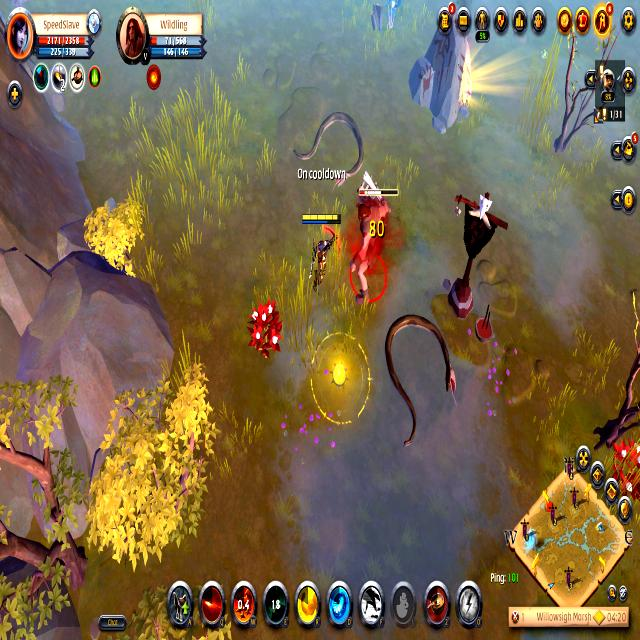hide: (245, 294, 284, 367), (610, 430, 639, 502), (384, 0, 401, 32)
ore: (348, 178, 401, 310)
red: (298, 207, 341, 294)
